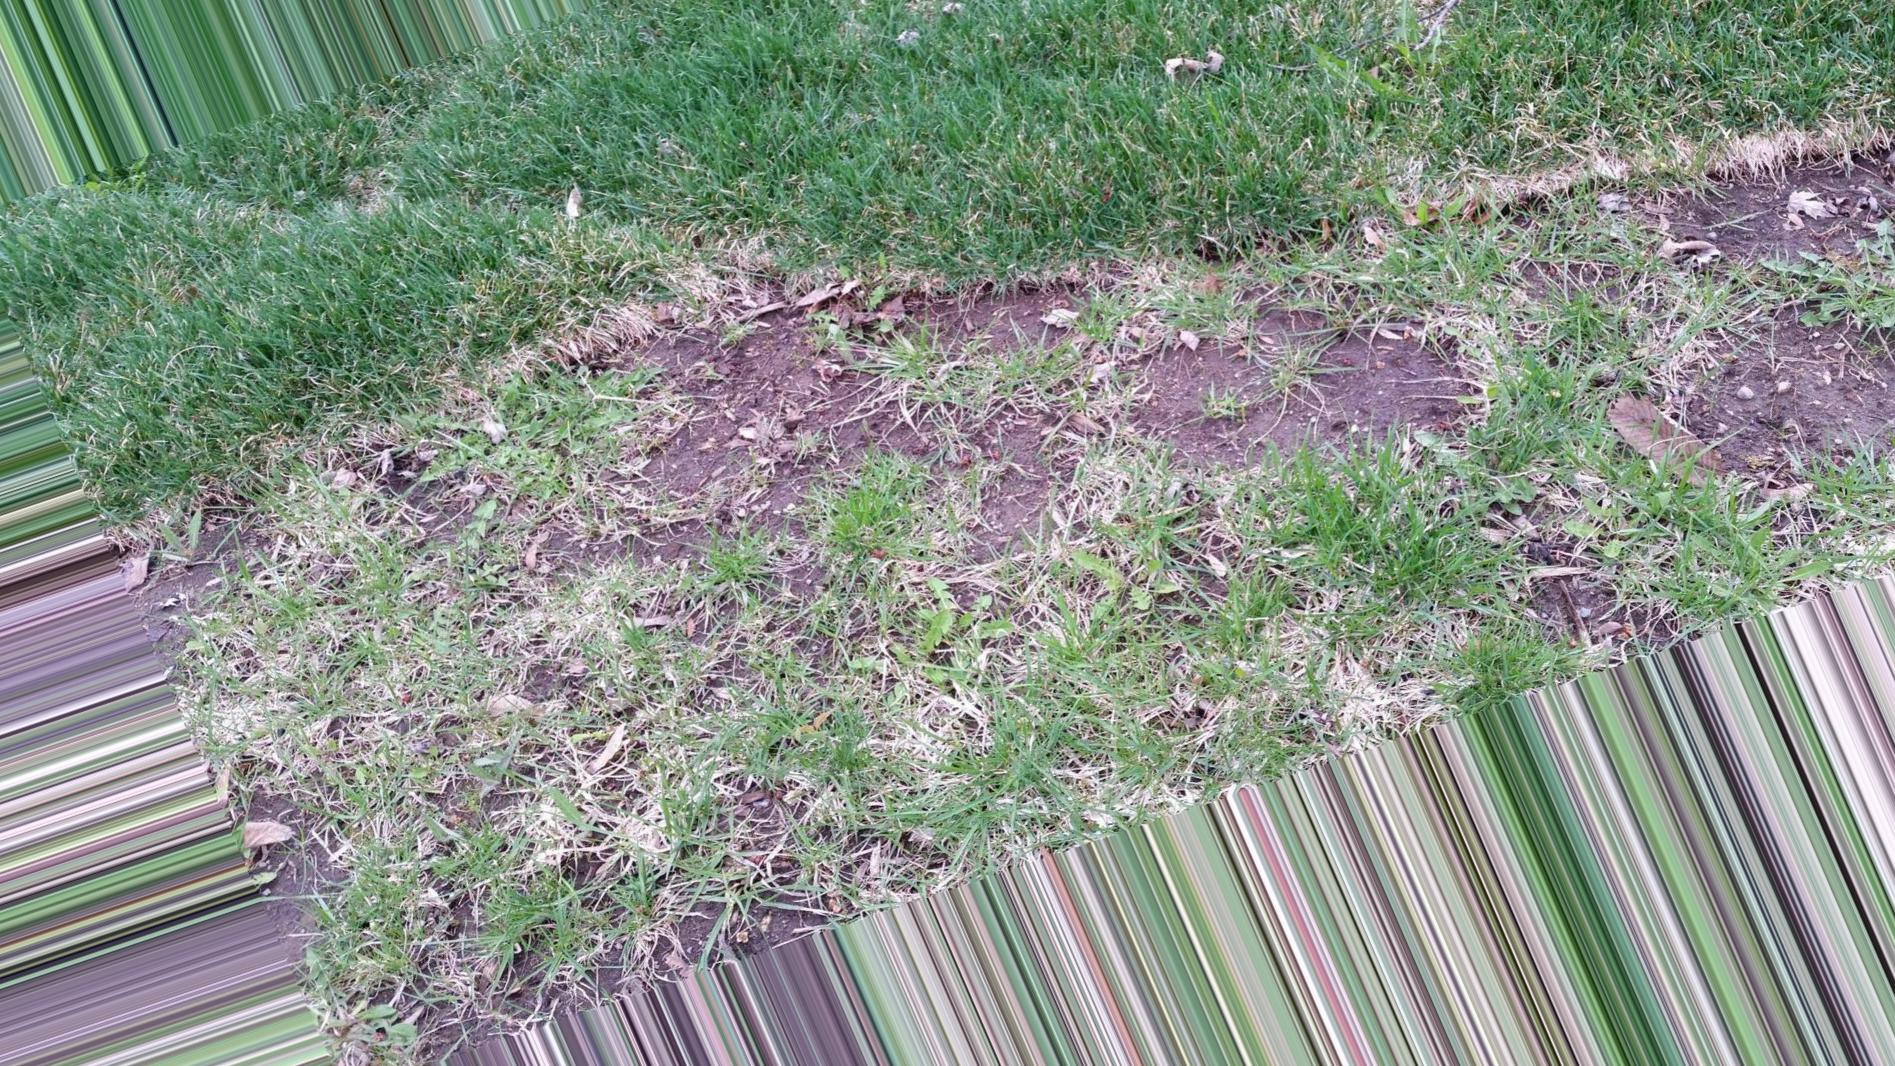patch: (640, 357, 1357, 479), (661, 452, 894, 607), (1730, 363, 1862, 472)
